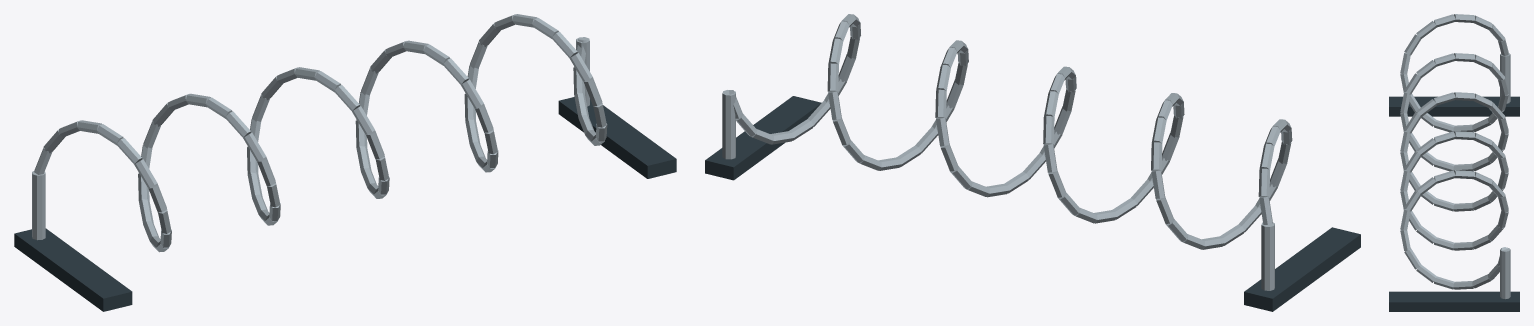
Rendered from b01_spiral_bicycle_corral.glb.
3 renders of one model, left to right at view 1: azimuth 30°, elevation 25°; view 2: azimuth 150°, elevation 25°; view 3: azimuth 270°, elevation 25°, orthographic. The views are drawn at different scales.
Parts seen in each view (by area): view 1: b01_spiral_bicycle_corral; view 2: b01_spiral_bicycle_corral; view 3: b01_spiral_bicycle_corral.
Part boxes in pixels (x1,y1,x2,y2): b01_spiral_bicycle_corral: (14, 14, 676, 311); b01_spiral_bicycle_corral: (705, 14, 1360, 311); b01_spiral_bicycle_corral: (1389, 14, 1519, 311).
Bounding box in the file's own units: 3.16 × 0.7621 × 0.85.
